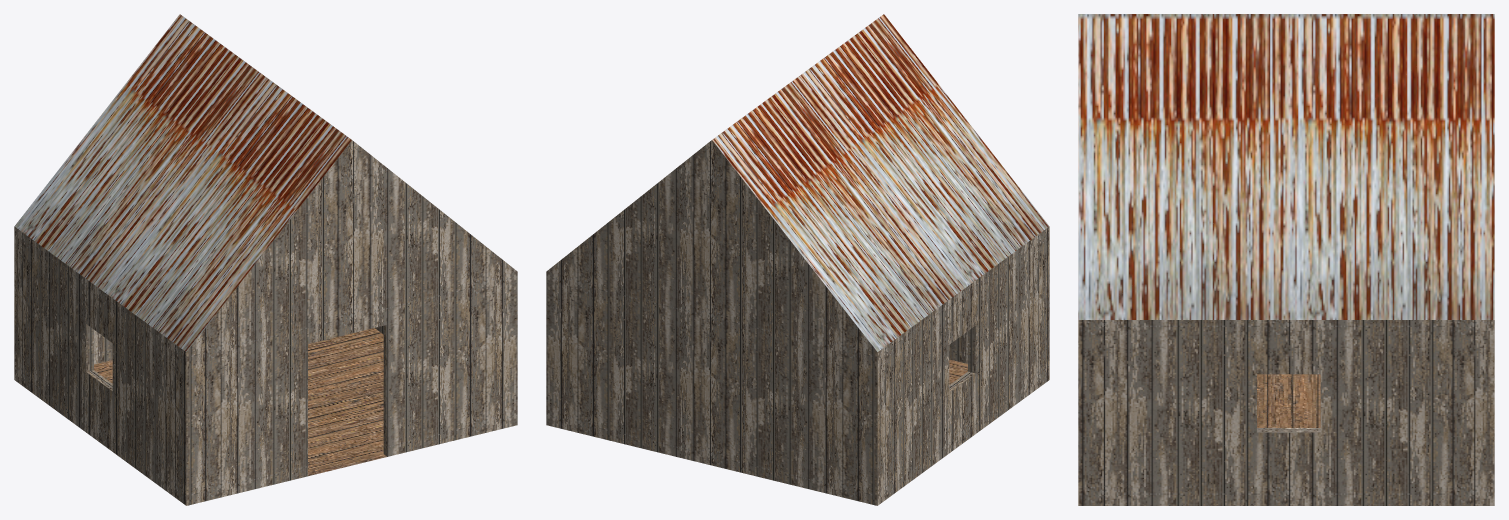
The model's file is WorkHut.fbx.
3 views of the same model, side by side, from view 1: azimuth 30°, elevation 25°; view 2: azimuth 150°, elevation 25°; view 3: azimuth 270°, elevation 25° (orthographic). The views are drawn at different scales.
Parts seen in each view (by area): view 1: Plane; view 2: Plane; view 3: Plane.
Part boxes in pixels (left/top/right/bottom): Plane: left=14, top=14, right=517, bottom=505; Plane: left=546, top=14, right=1049, bottom=505; Plane: left=1078, top=14, right=1494, bottom=505.
Bounding box in the file's own units: 607 × 571 × 546.
